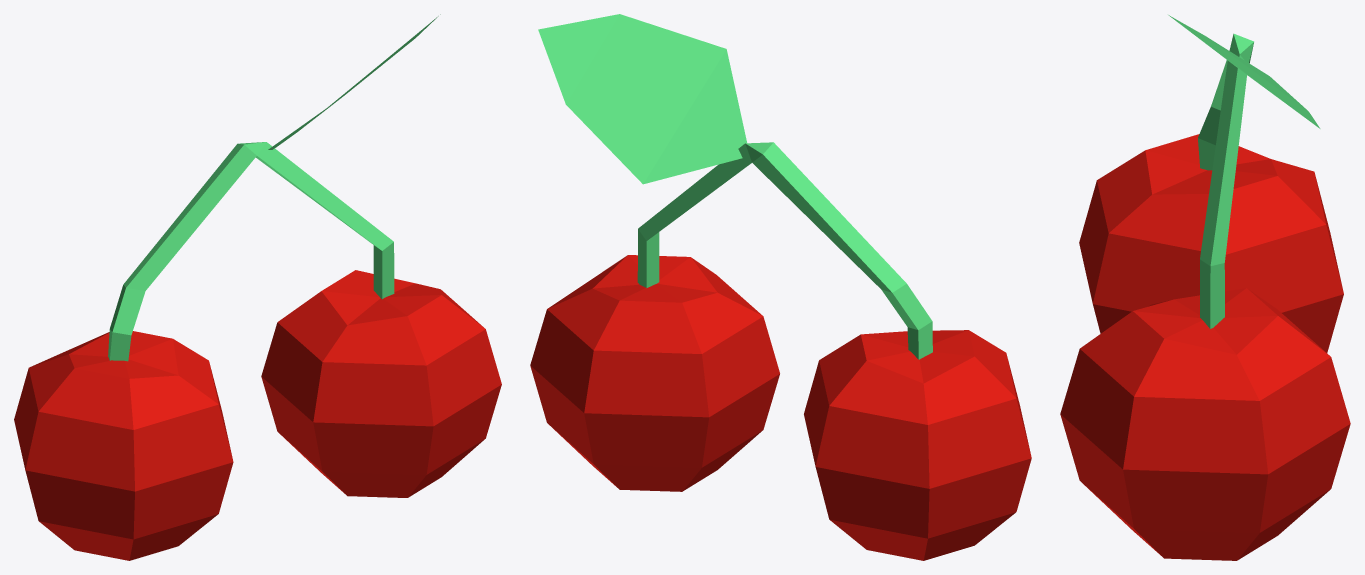
The model's file is cherry.fbx.
3 renders of one model, left to right at view 1: azimuth 30°, elevation 25°; view 2: azimuth 150°, elevation 25°; view 3: azimuth 270°, elevation 25°, orthographic. The views are drawn at different scales.
Visible parts, largest first — view 1: cherry; view 2: cherry; view 3: cherry.
Boxes of the visible parts, x1,y1,x2,y2 form: cherry: (14,14,501,560); cherry: (530,14,1031,560); cherry: (1060,15,1350,560).
Bounding box in the file's own units: 43.4 × 40.41 × 19.94.
Materials: 1 (1 with a texture image).
